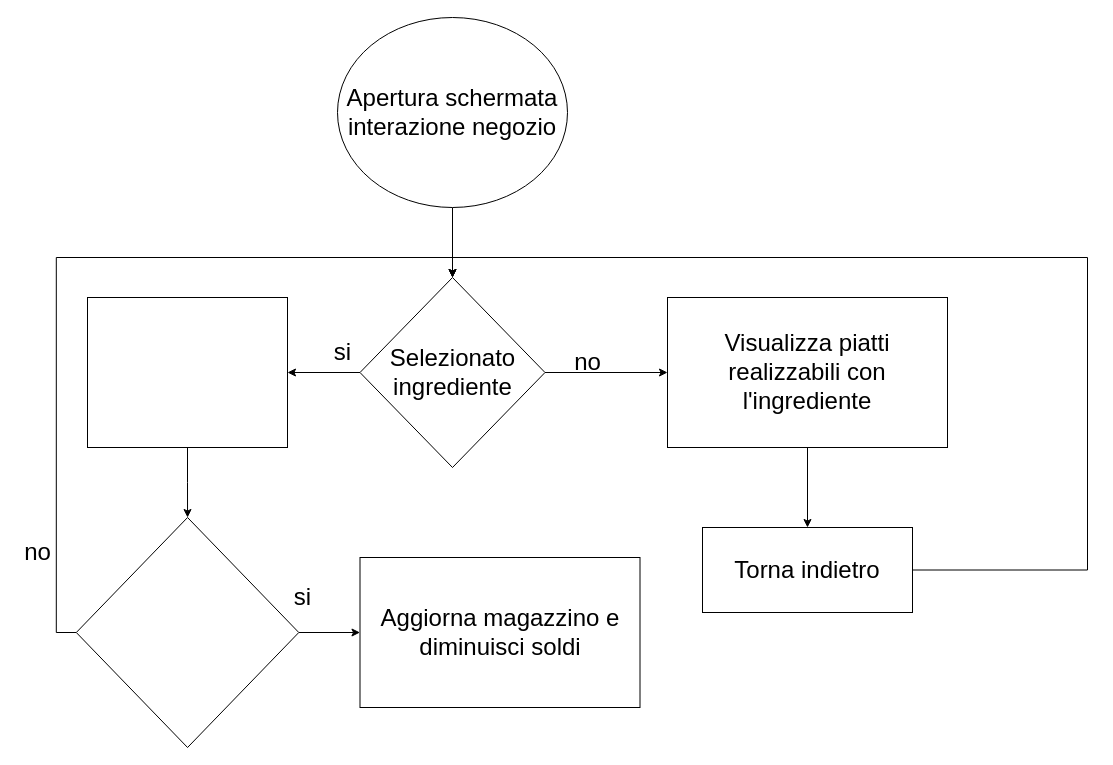
Image size: 1113x765. Some labels were removed from this diagram. The centre of each missing label's shape, as x and y in pixels:
"Compra ingrediente" goes at pixel 187 372.
"Sei sicuro di comprare questo ingrediente?" goes at pixel 187 632.
